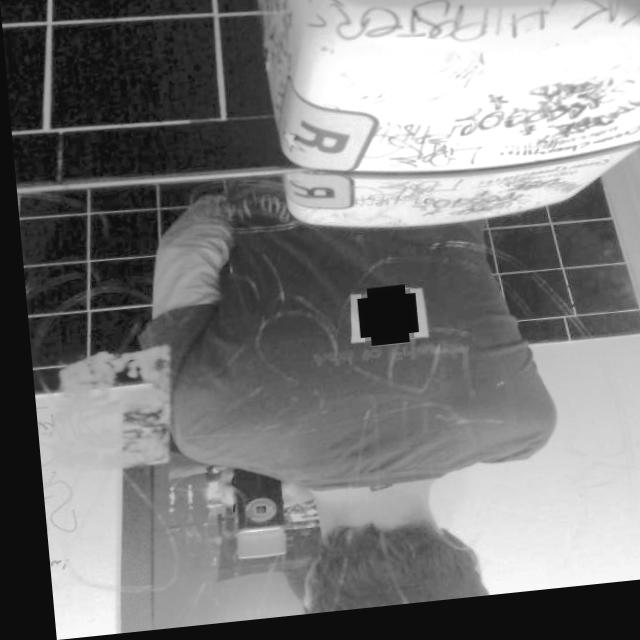qr_code: (355, 296, 407, 349)
